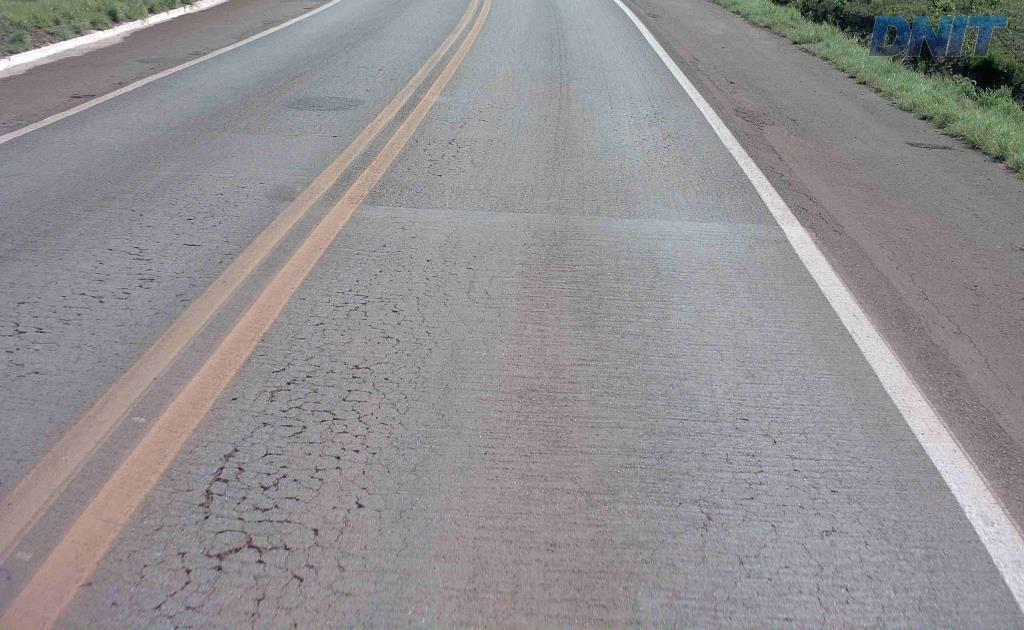crack: (199, 526, 298, 601), (191, 441, 246, 530)
